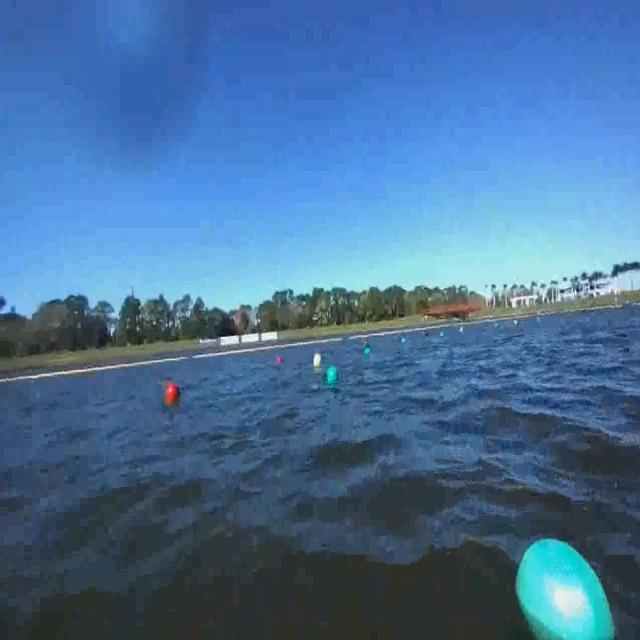green-buoy: (498, 525, 632, 640), (327, 365, 337, 384)
red-buoy: (164, 380, 179, 404), (278, 355, 283, 363)
yellow-buoy: (314, 353, 322, 367)
